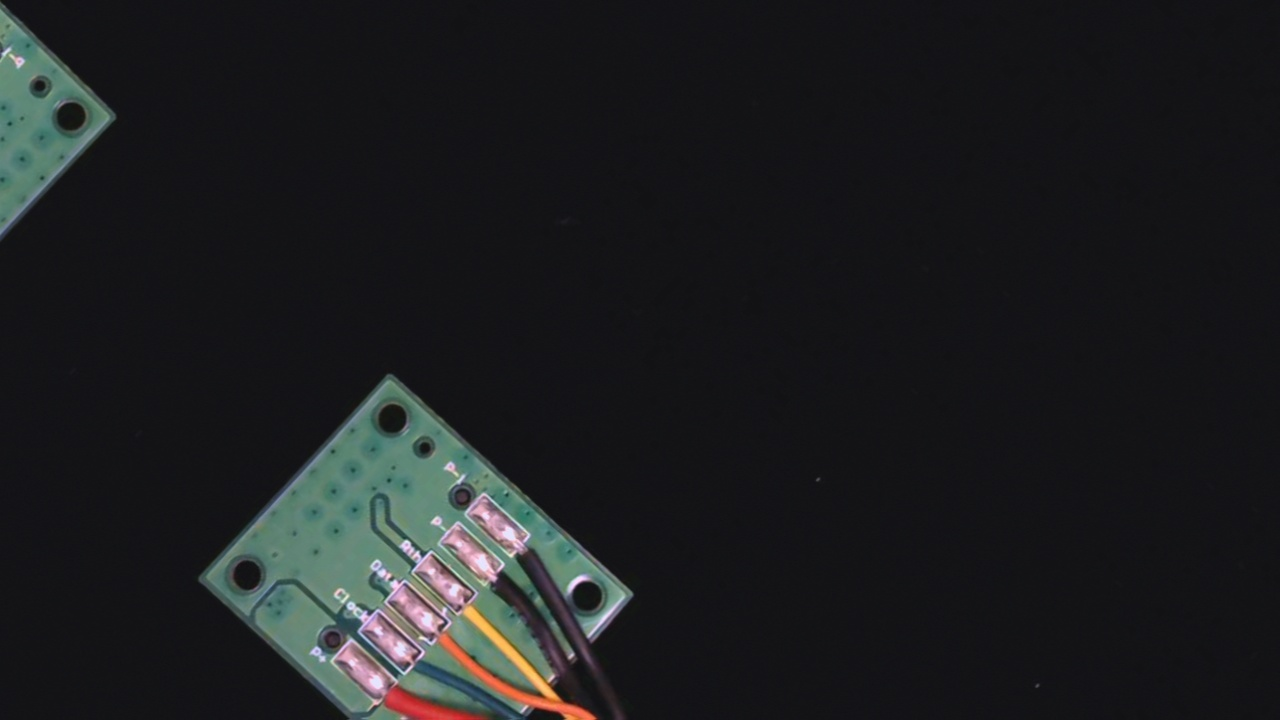Black: (476, 557, 539, 619)
Black1: (501, 527, 565, 590)
Green: (393, 643, 456, 706)
Orange: (422, 616, 484, 677)
Red: (365, 673, 433, 720)
Yellow: (448, 585, 515, 652)
